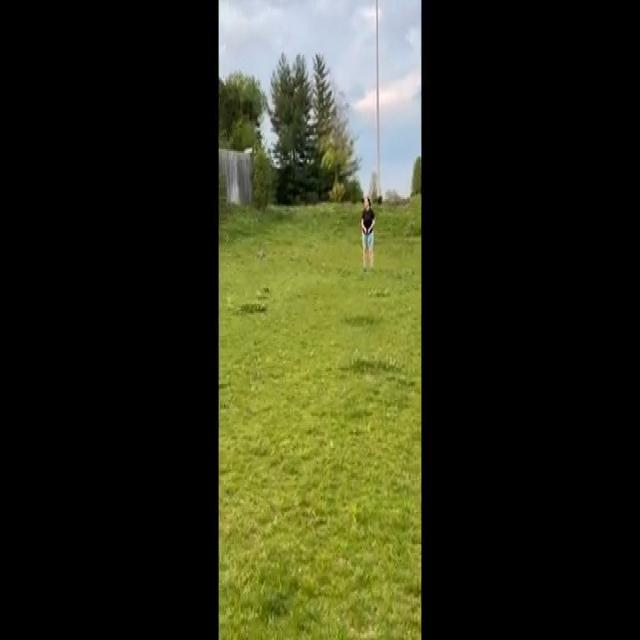drone: (254, 247, 268, 264)
